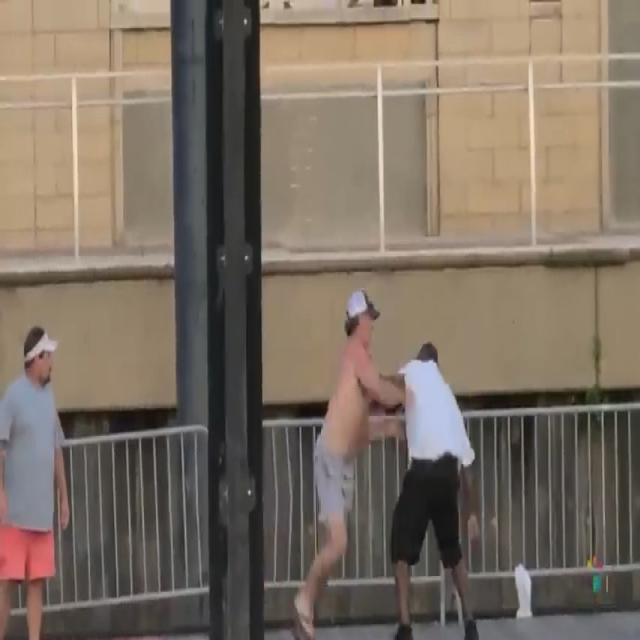fight: (286, 280, 484, 640)
non-fight: (0, 320, 73, 640)
